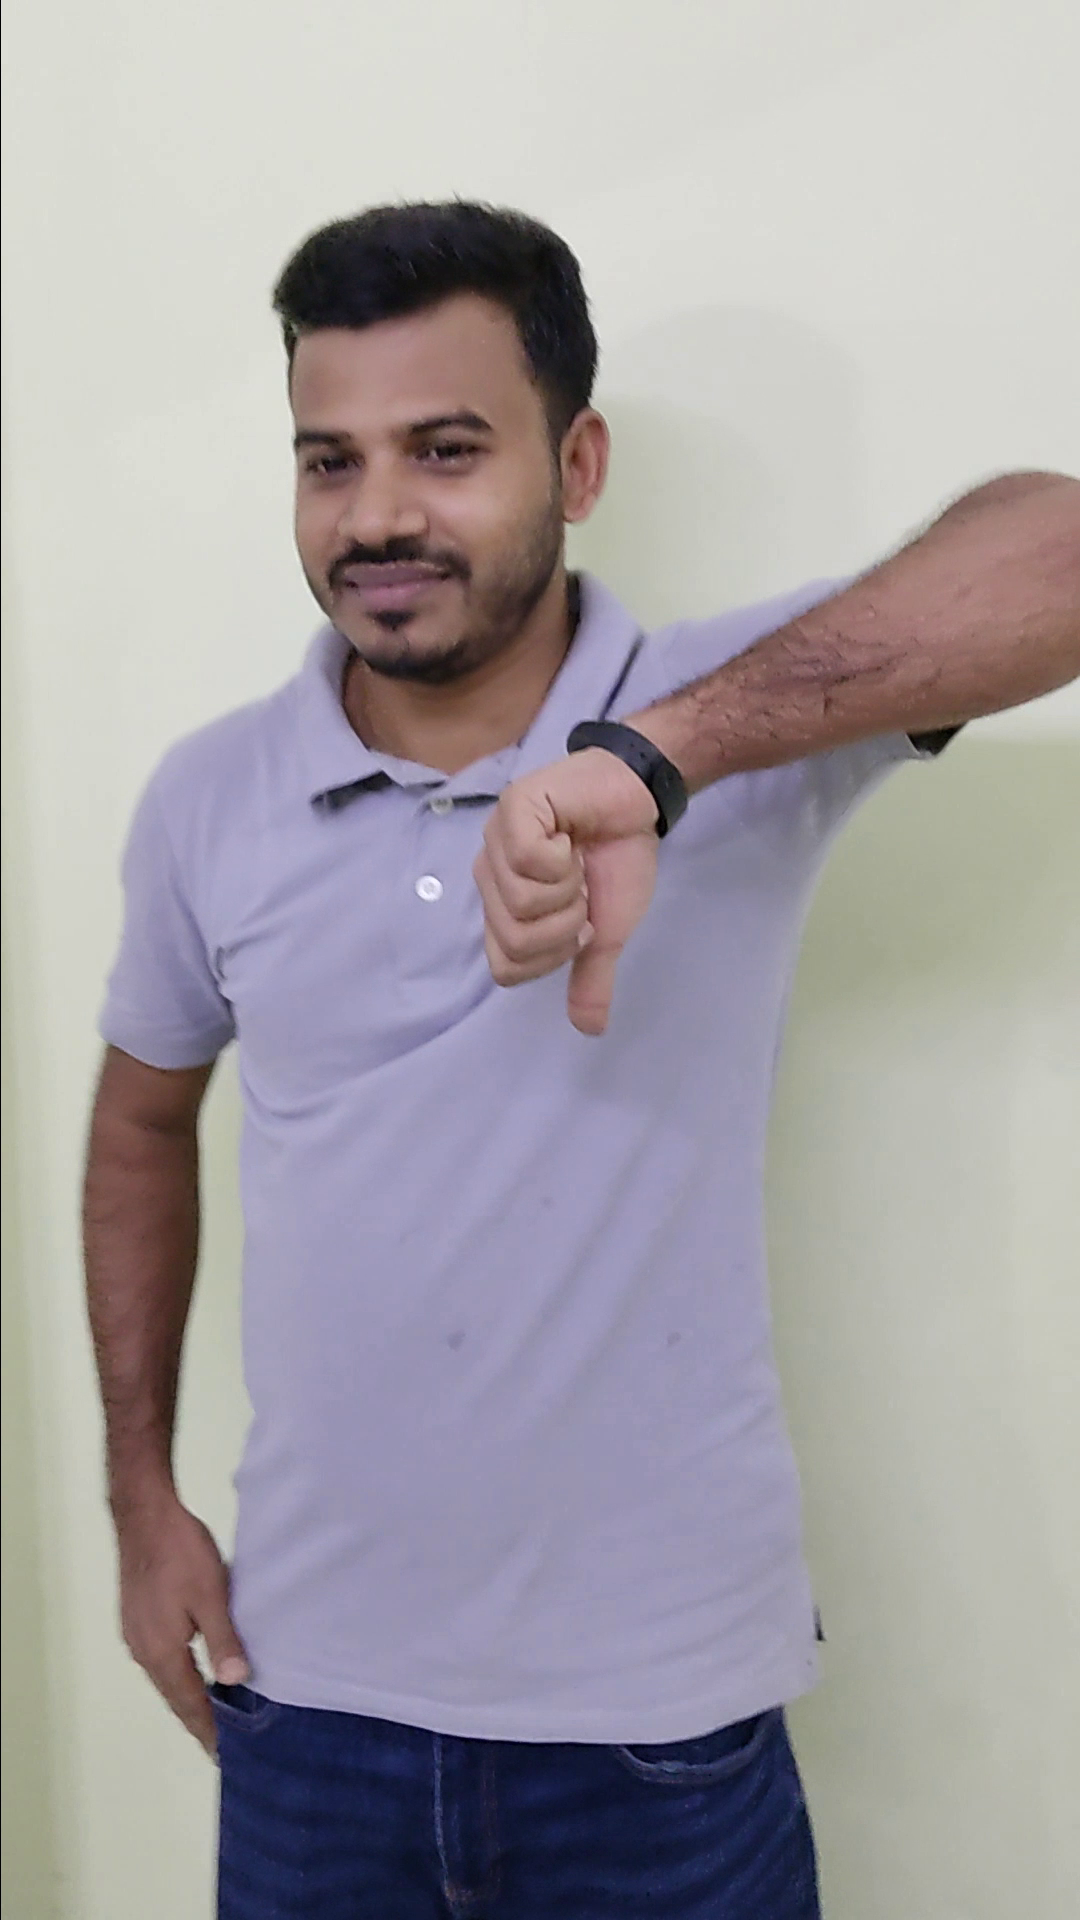Dislike: (447, 716, 670, 1054)
None: (90, 1482, 256, 1778)
